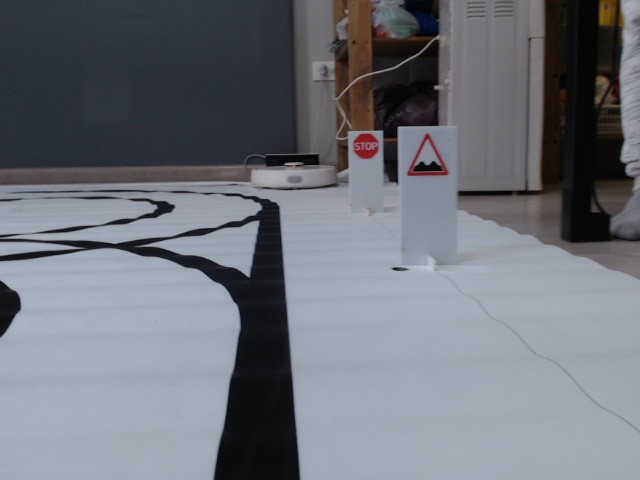Nerov: (405, 131, 452, 183)
Stop: (353, 133, 381, 161)
